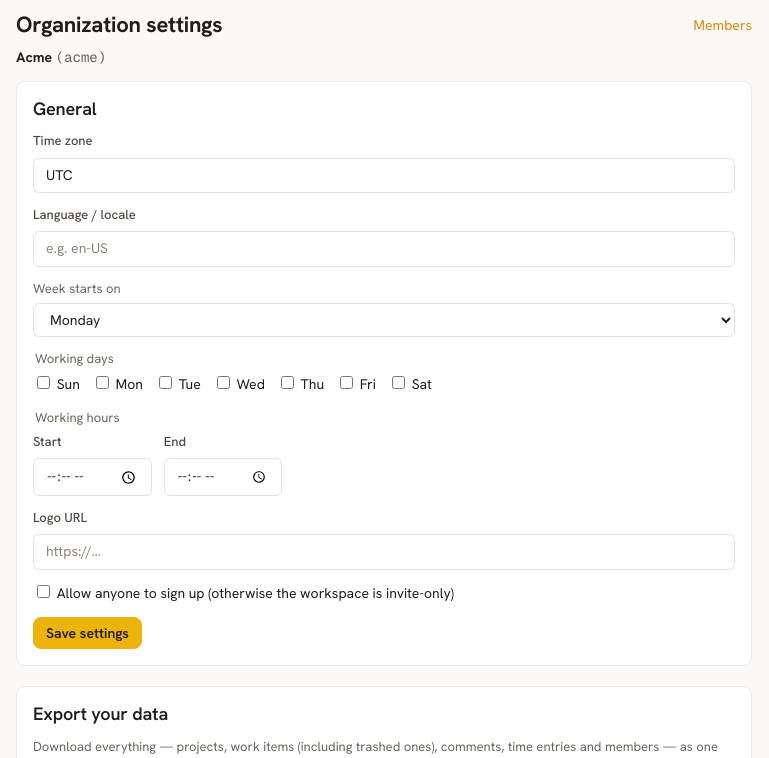
Test case: OrganizationClient › loads the org, saves edited settings, and invalidates the shared org query
Replace the text in the field labelled "Time zone" with "Europe/Berlin" at (384, 175), box [33, 158, 735, 193]
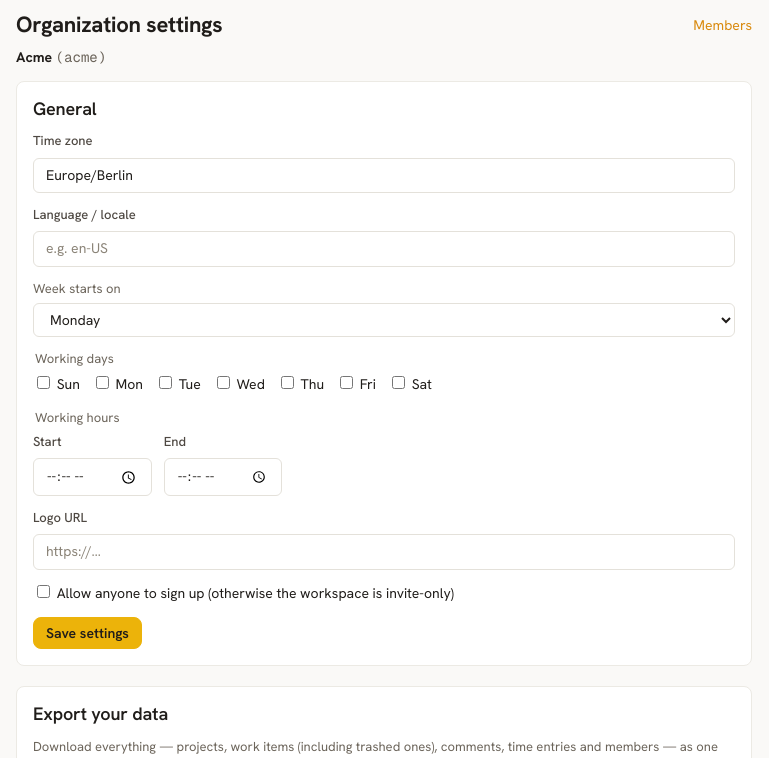
Click the button "Save settings".
click(87, 633)  # box [33, 617, 142, 649]
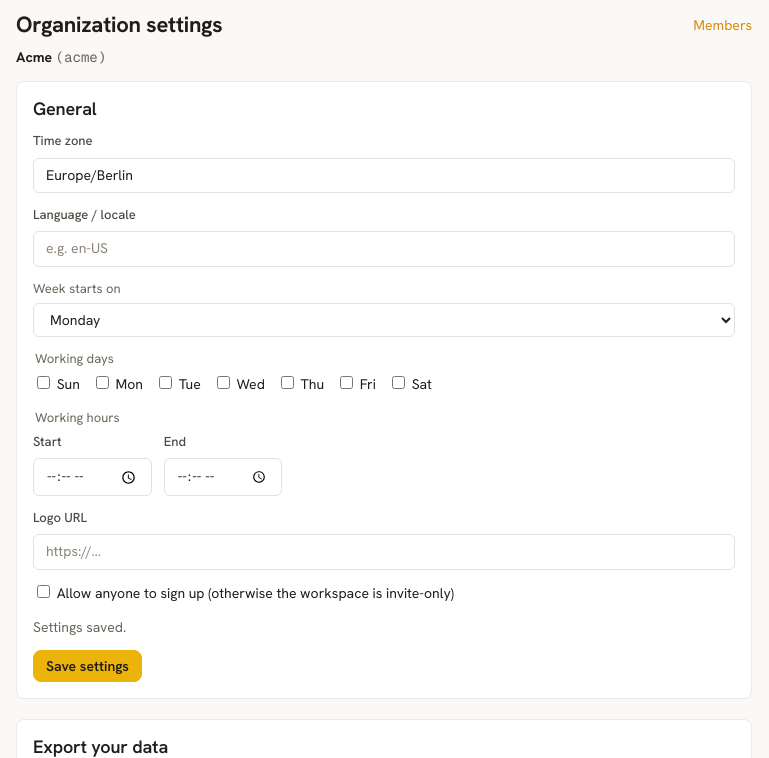
Result: the text "Settings saved." is shown at [33, 618, 126, 636]
